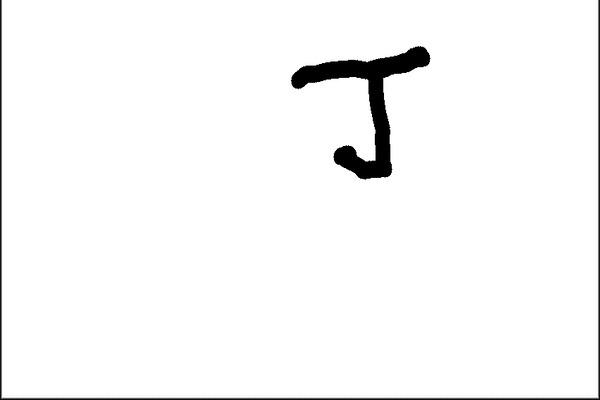J: (281, 37, 439, 187)
